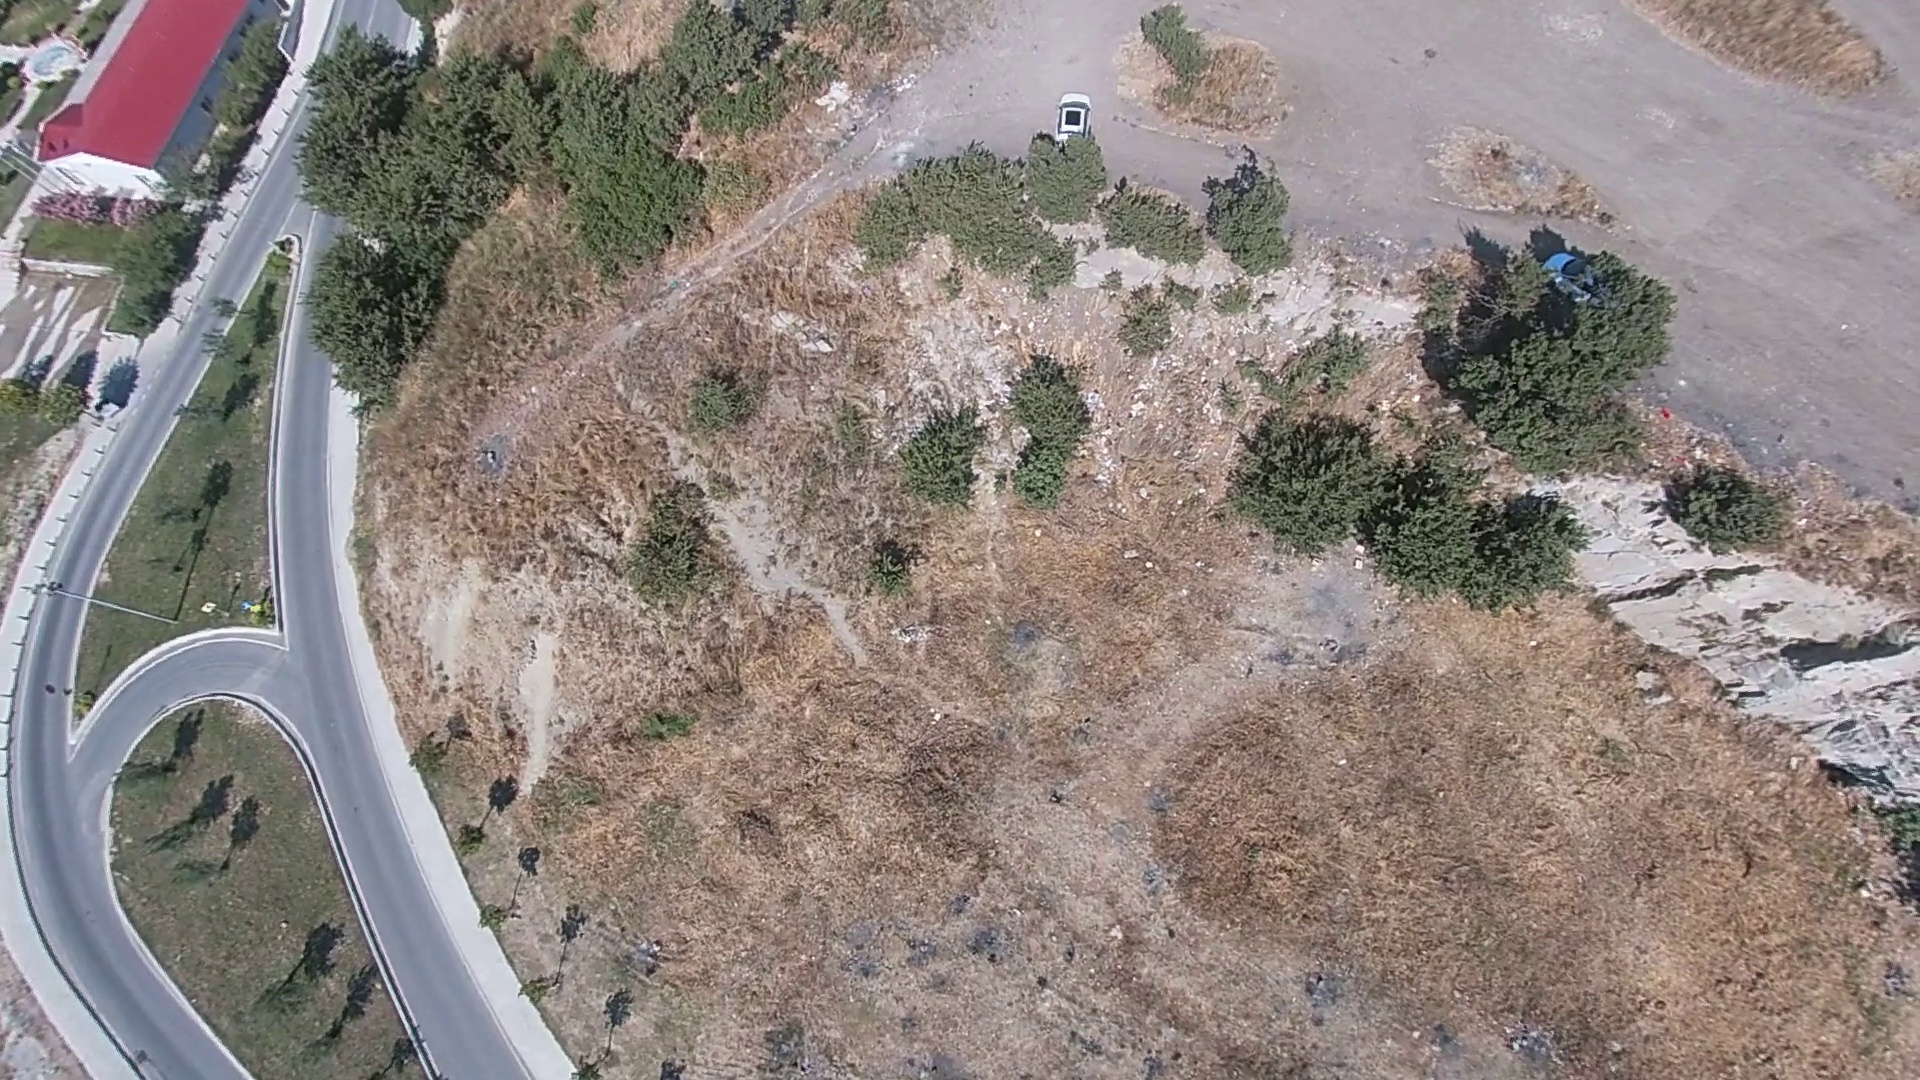araba: (1531, 247, 1618, 309), (1048, 94, 1106, 144)
